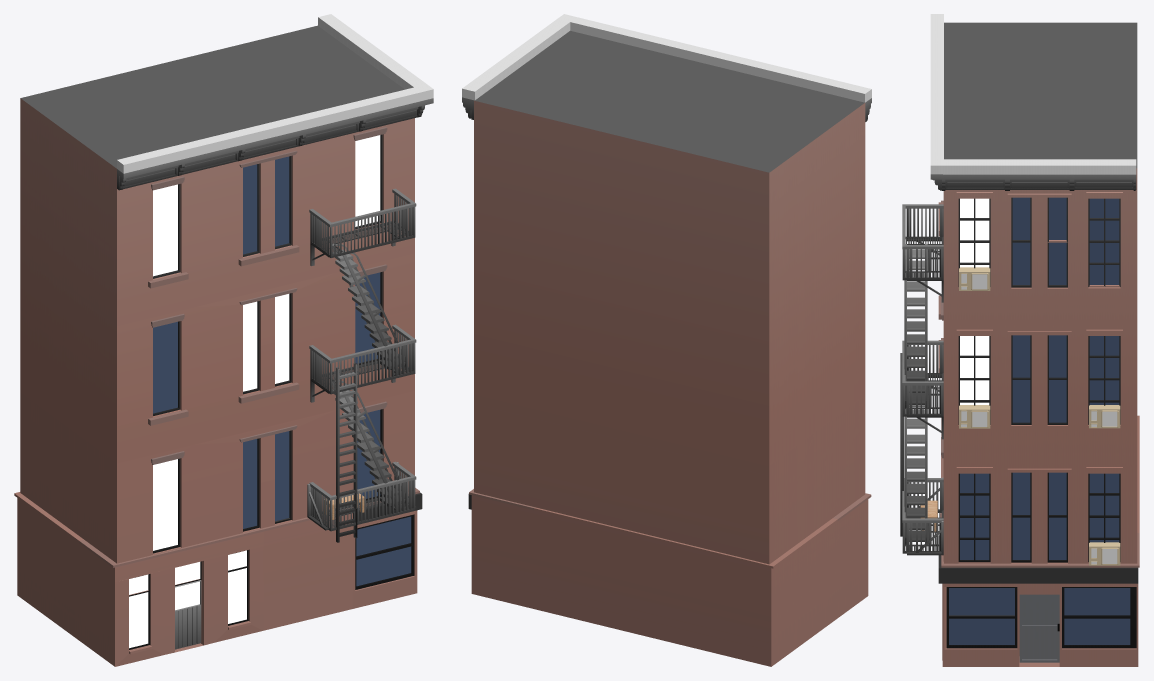
3 renders of one model, left to right at view 1: azimuth 30°, elevation 25°; view 2: azimuth 150°, elevation 25°; view 3: azimuth 270°, elevation 25°, orthographic.
Visible parts, largest first — view 1: Cubo.044, Cubo.064, Cubo.060, Cubo.053, Cubo.046, Escaleras de mano, Cubo.062, Escaleras.001, Cubo.045, Escaleras; view 2: Cubo.044, Cubo.064, Cubo.062; view 3: Cubo.044, Cubo.062, Puerta.001, Cubo.060, Escaleras.001, Cubo.064, Escaleras, Cubo.053, Cubo.046, aire acondicionado1.002, aire acondicionado1.008, aire acondicionado1.001 (+3 smaller).
Boxes of the visible parts, x1=… form: Cubo.044: x1=14, y1=25, x2=422, y2=666; Cubo.064: x1=117, y1=84, x2=433, y2=189; Cubo.060: x1=309, y1=188, x2=416, y2=257; Cubo.053: x1=309, y1=324, x2=416, y2=394; Cubo.046: x1=309, y1=461, x2=416, y2=531; Escaleras de mano: x1=336, y1=363, x2=357, y2=542; Cubo.062: x1=318, y1=14, x2=426, y2=89; Escaleras.001: x1=332, y1=243, x2=405, y2=374; Cubo.045: x1=175, y1=580, x2=201, y2=649; Escaleras: x1=332, y1=381, x2=405, y2=511; Cubo.044: x1=468, y1=30, x2=871, y2=666; Cubo.064: x1=557, y1=14, x2=871, y2=121; Cubo.062: x1=462, y1=19, x2=570, y2=119; Cubo.044: x1=938, y1=22, x2=1139, y2=666; Cubo.062: x1=943, y1=159, x2=1136, y2=189; Puerta.001: x1=1019, y1=594, x2=1059, y2=662; Cubo.060: x1=902, y1=204, x2=943, y2=280; Escaleras.001: x1=904, y1=244, x2=927, y2=408; Cubo.064: x1=930, y1=14, x2=943, y2=190; Escaleras: x1=904, y1=405, x2=927, y2=545; Cubo.053: x1=902, y1=340, x2=943, y2=416; Cubo.046: x1=902, y1=478, x2=943, y2=553; aire acondicionado1.002: x1=959, y1=405, x2=990, y2=428; aire acondicionado1.008: x1=1089, y1=542, x2=1120, y2=565; aire acondicionado1.001: x1=1089, y1=405, x2=1120, y2=428.
Size of the model in its own units: 8.66 by 13.27 by 5.69.
8 materials, 4 textured.
